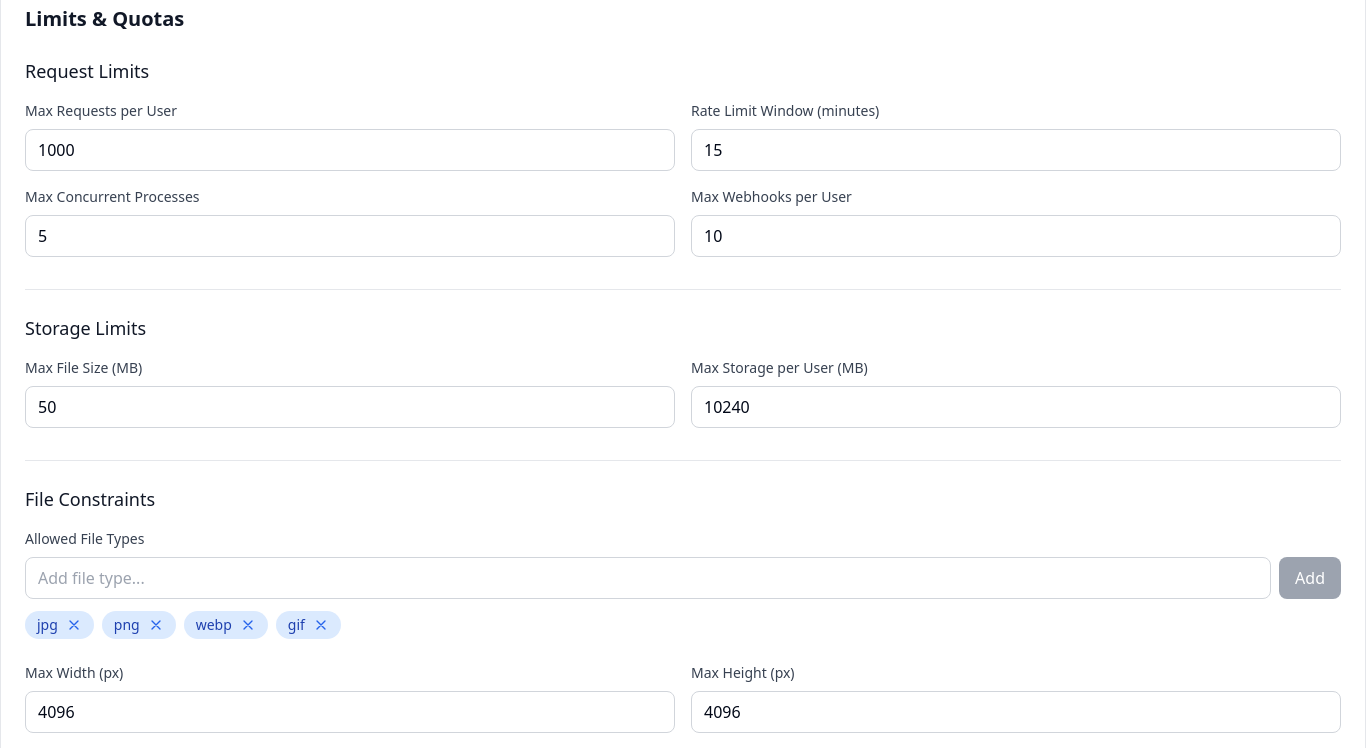
LimitsSettings › validates max dimensions
Expected: the number field labelled "Max Height (px)" is shown, top-left (691, 691), bottom-right (1341, 733)
Replace the text in the number field labelled "Max Width (px)" with "10000" at point(350, 712), box top-left (25, 691), bottom-right (675, 733)
(page scrolled)
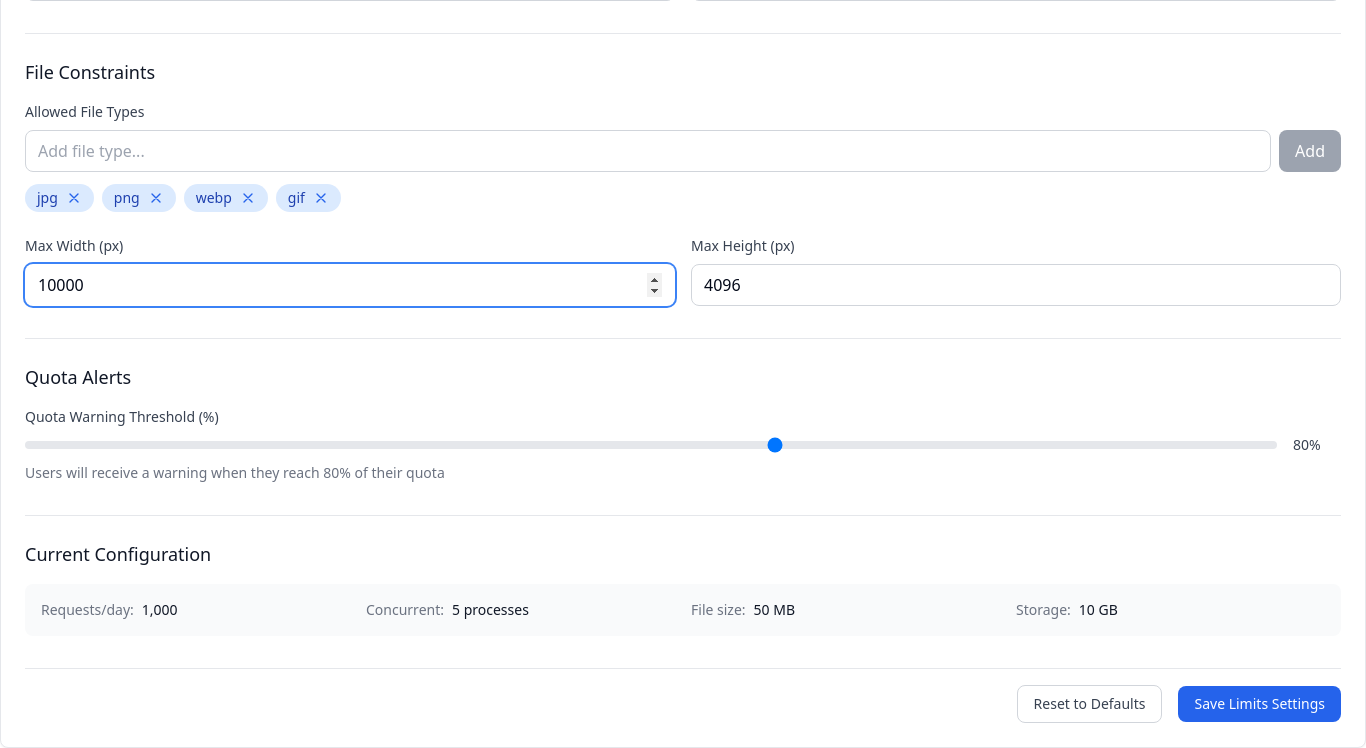
Click the button "Save Limits Settings" at point(1260, 704), box top-left (1178, 686), bottom-right (1341, 722)
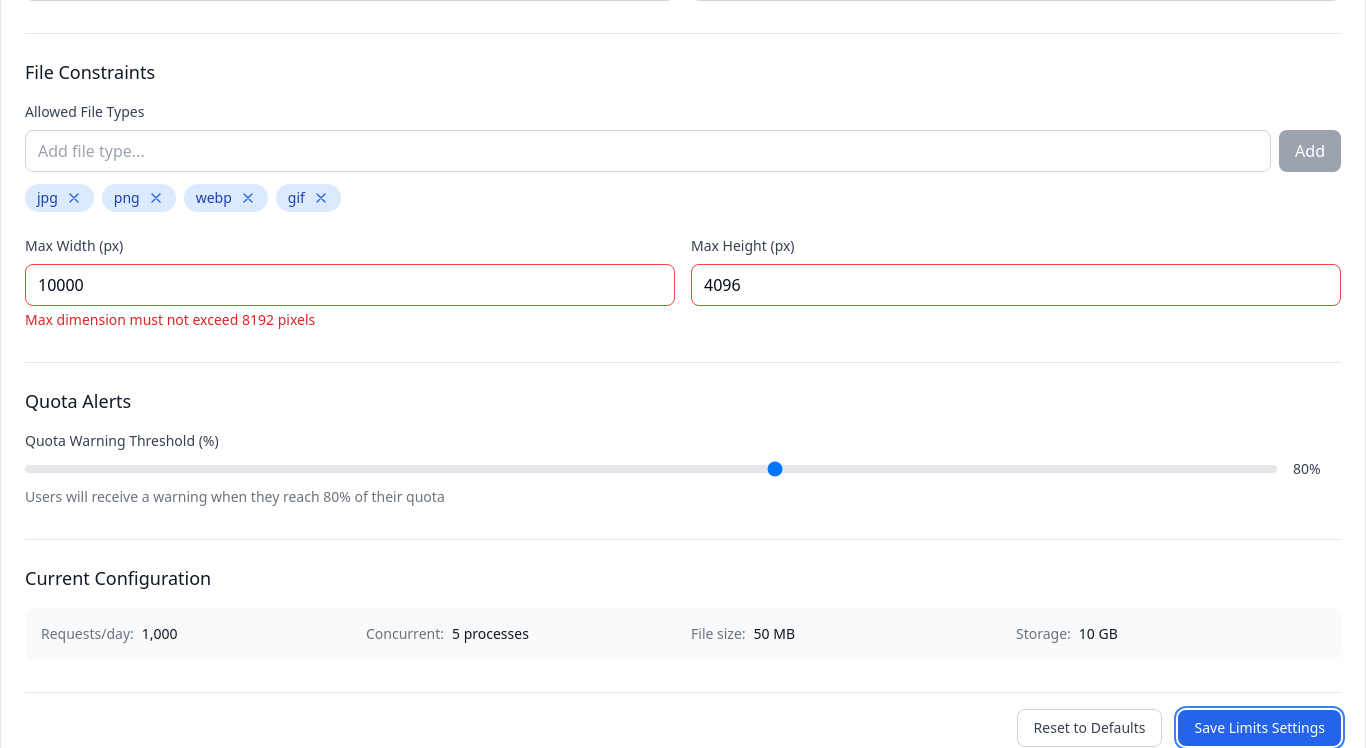
Result: the text "Max dimension must not exceed 8192 pixels" is shown at top-left (25, 310), bottom-right (315, 329)
